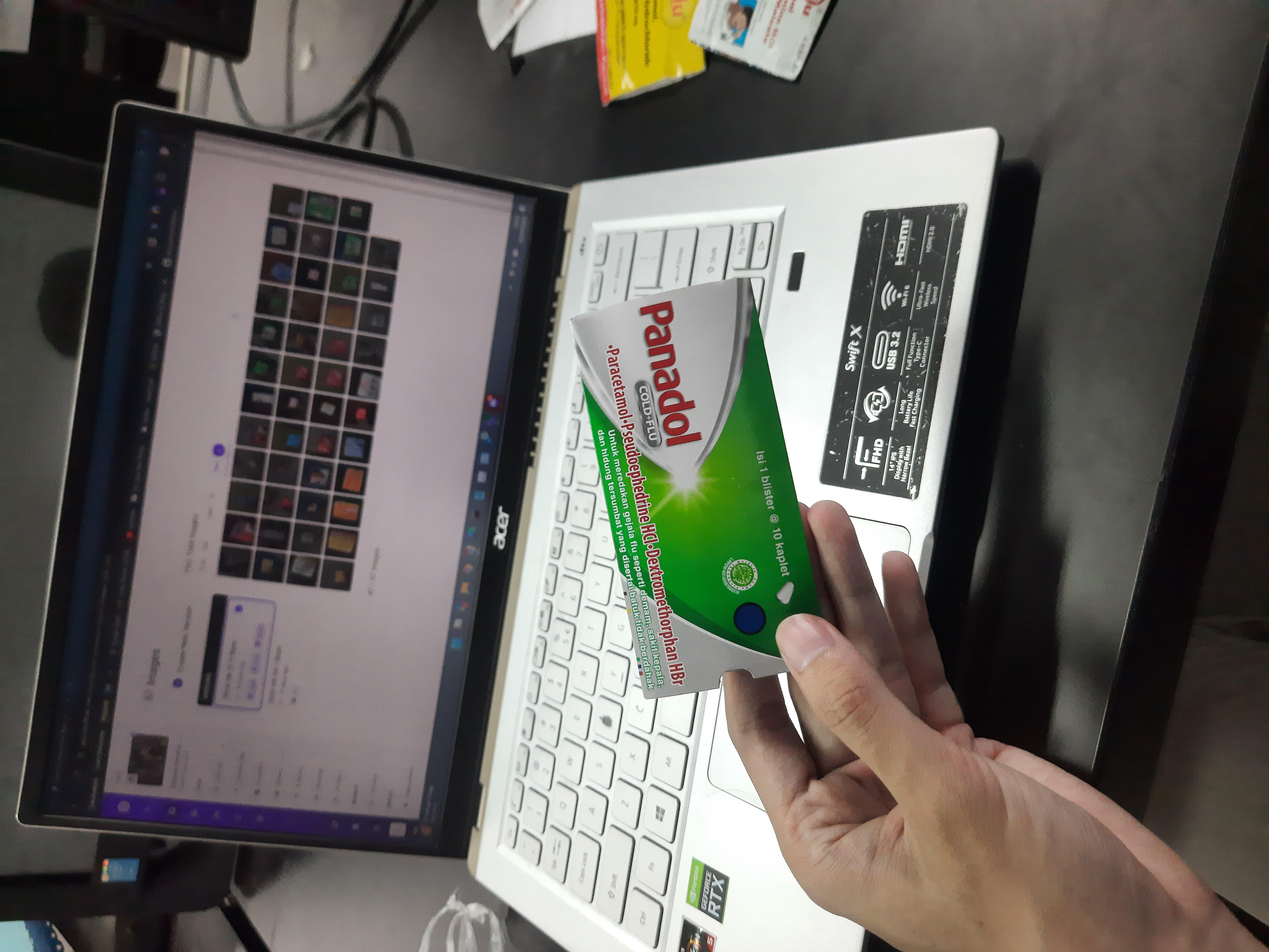Panadol Cold Flu: (337, 427, 898, 617)
